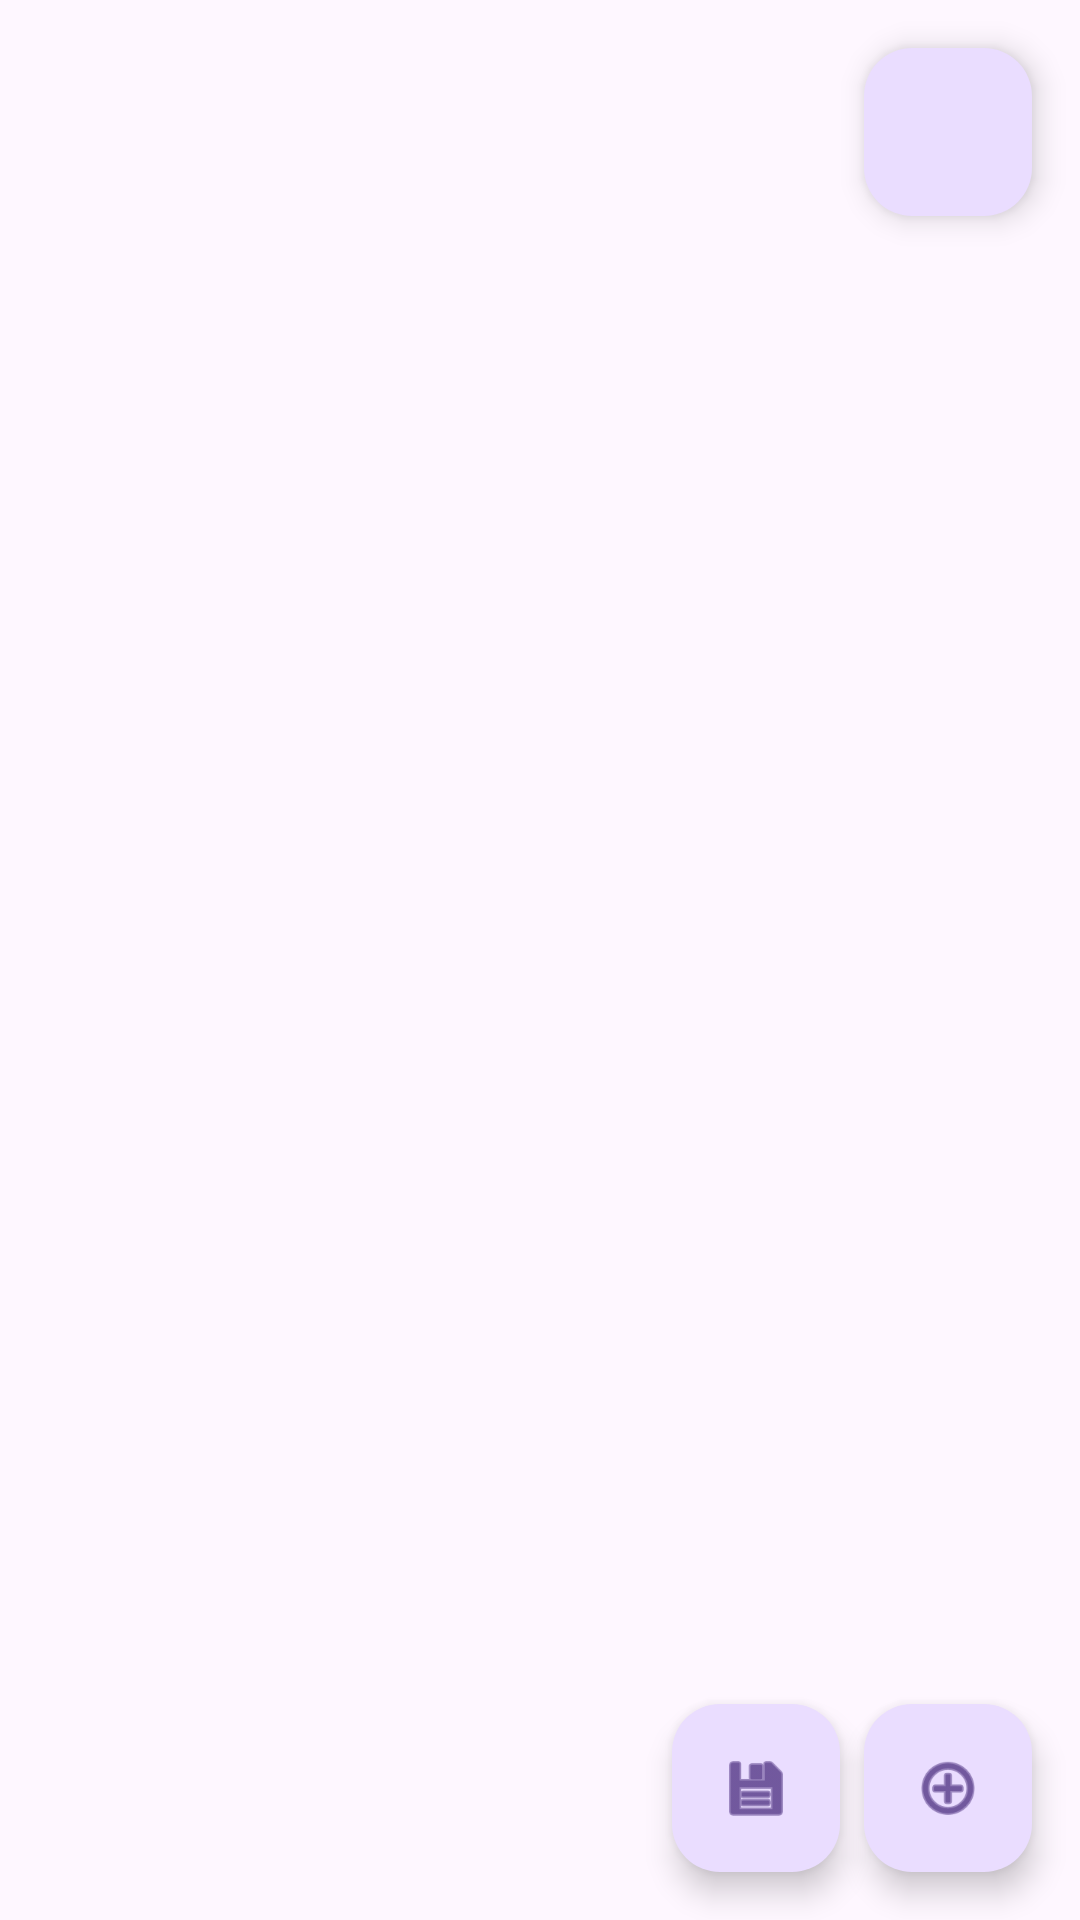

Named icons in this screenshot (1080*1920) and their centers, point (x, y):
add: point (948, 1788)
save: point (756, 1788)
